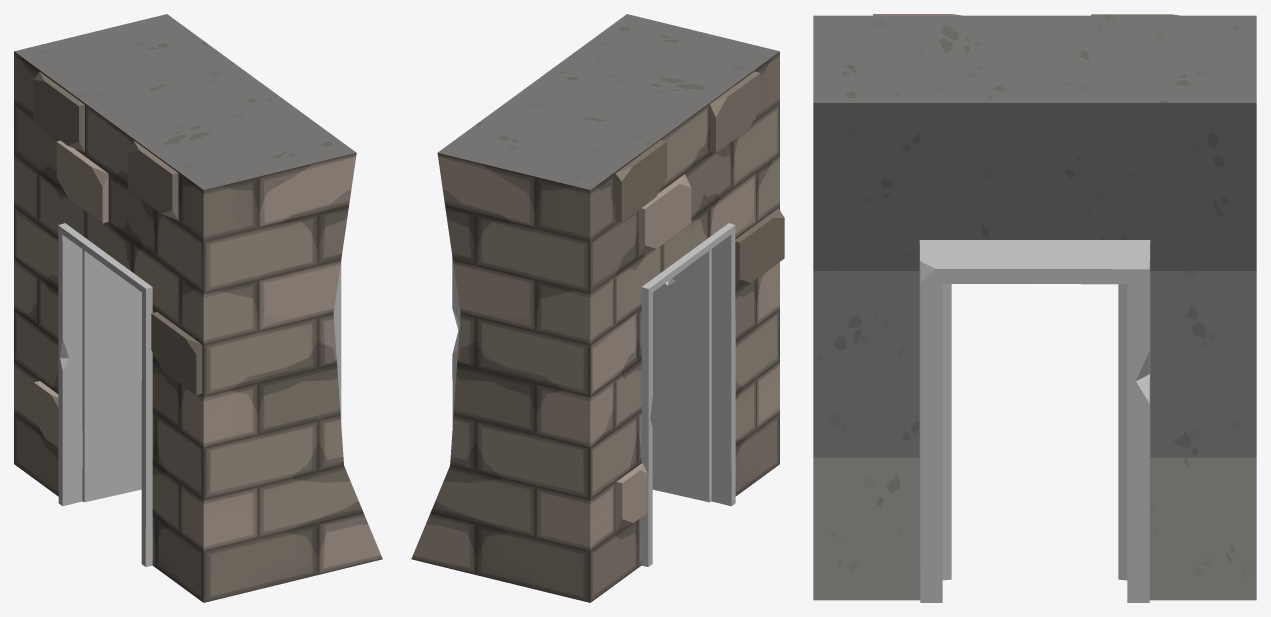
File: SM_Bld_Tunnel_Curved_Wall_03.fbx
3 views of the same model, side by side, from view 1: azimuth 30°, elevation 25°; view 2: azimuth 150°, elevation 25°; view 3: azimuth 270°, elevation 25° (orthographic). The views are drawn at different scales.
Parts seen in each view (by area): view 1: SM_Bld_Tunnel_Curved_Wall_03; view 2: SM_Bld_Tunnel_Curved_Wall_03; view 3: SM_Bld_Tunnel_Curved_Wall_03.
Boxes of the visible parts, bbox=[...] form: SM_Bld_Tunnel_Curved_Wall_03: bbox=[14, 14, 382, 602]; SM_Bld_Tunnel_Curved_Wall_03: bbox=[411, 14, 784, 602]; SM_Bld_Tunnel_Curved_Wall_03: bbox=[813, 14, 1256, 602].
Size of the model in its own units: 145 by 300 by 250.
